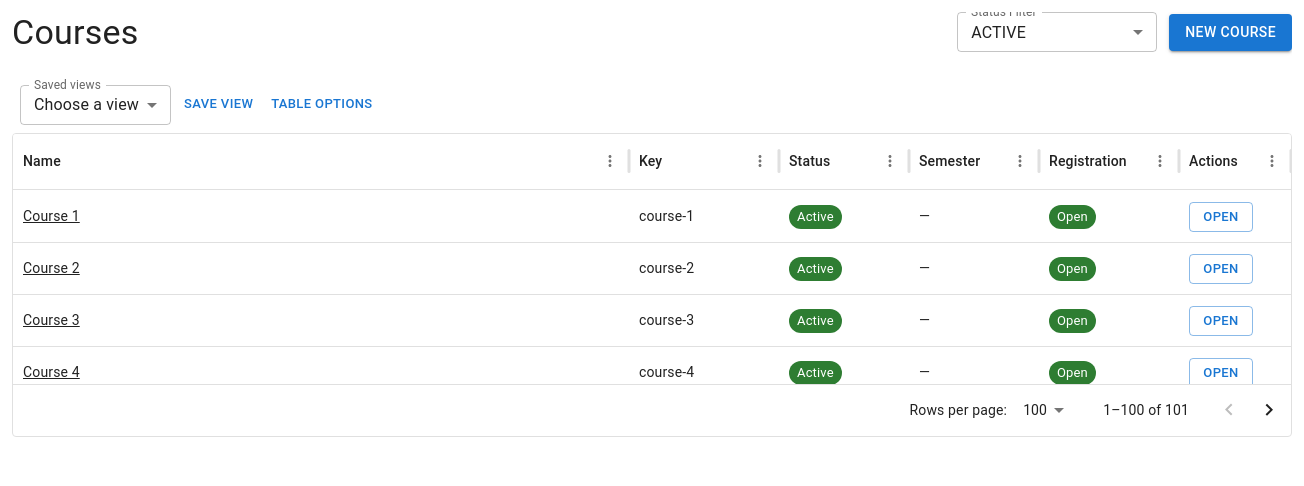
it: bounded instructor lists › keeps records beyond the first DataGrid page reachable
The width and height of the screenshot is (1304, 486).
Expected: the link "Course 1" is shown, [23,208,80,224]
Click the button named "Go to next page": (1269, 410) [1249,390,1289,430]
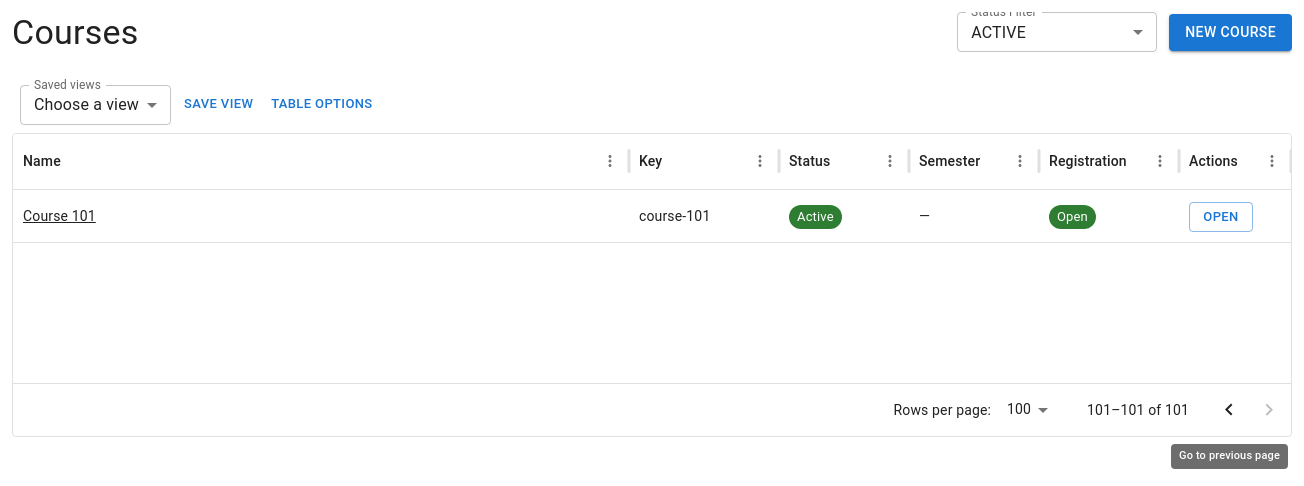
Now the link "Course 101" is shown, box [23,208,96,224]
